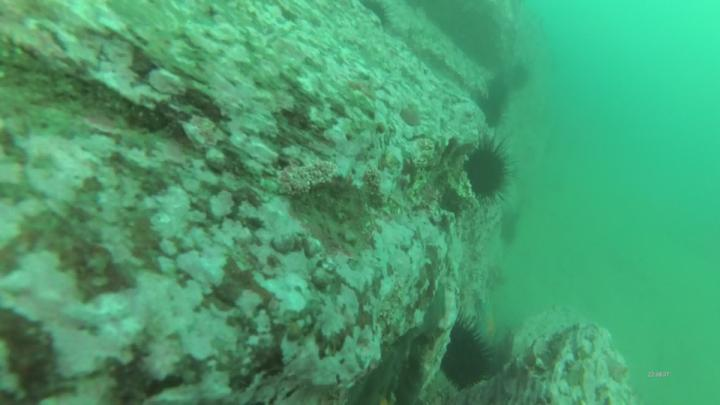echinus: (440, 314, 497, 391), (466, 133, 513, 204), (472, 92, 506, 129), (358, 1, 391, 36), (490, 73, 514, 119), (506, 61, 530, 96)
